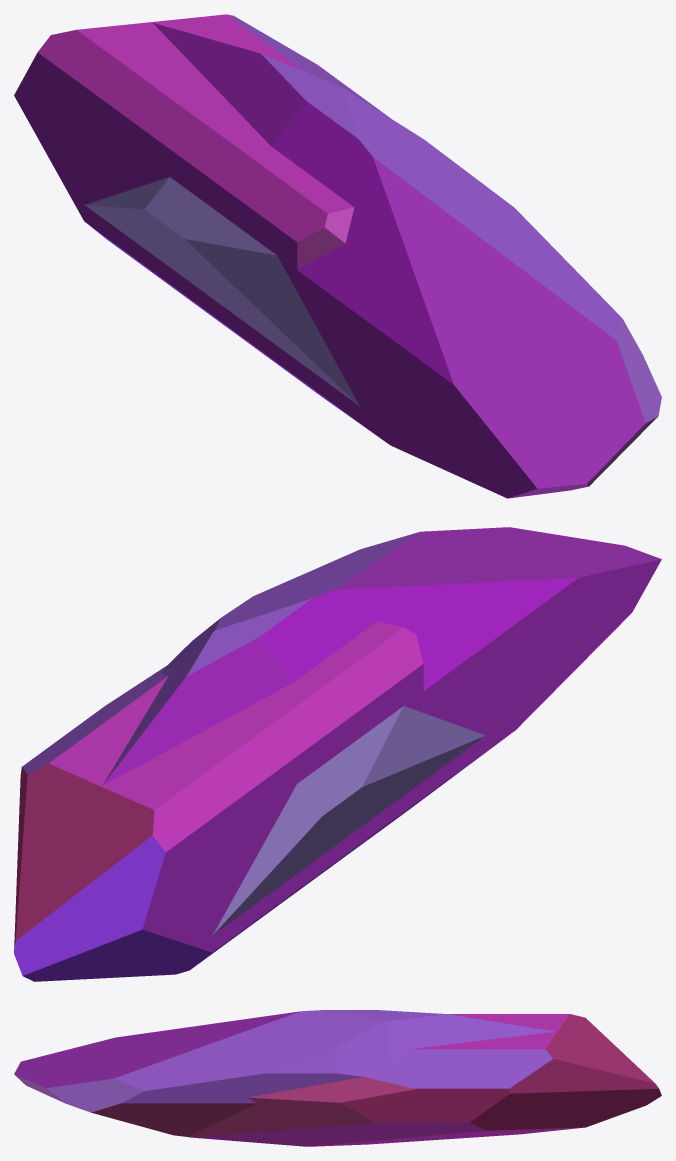
The model's file is core.obj.
The picture shows the model from 3 angles, top to bottom: view 1: azimuth 30°, elevation 25°; view 2: azimuth 150°, elevation 25°; view 3: azimuth 270°, elevation 25°; orthographic projection. The views are drawn at different scales.
Parts seen in each view (by area): view 1: Body_01; view 2: Body_01; view 3: Body_01.
Part boxes in pixels (x1,y1,x2,y2): Body_01: [14, 14, 661, 498]; Body_01: [14, 527, 661, 981]; Body_01: [14, 1010, 661, 1146].
Size of the model in its own units: 1.26 by 1.19 by 5.24.
